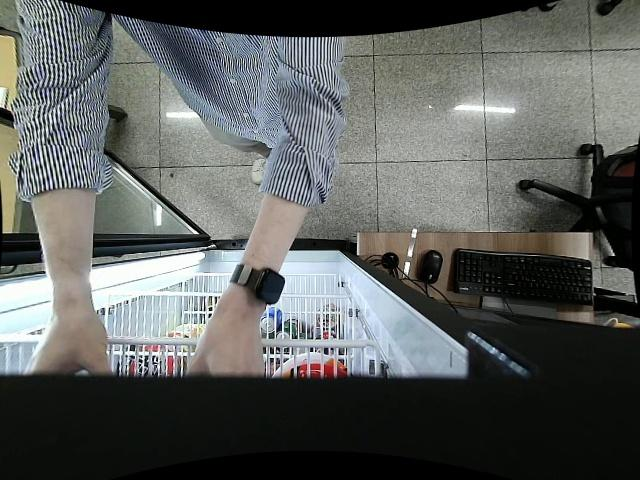00_hand: (18, 314, 111, 384), (188, 330, 265, 382)
